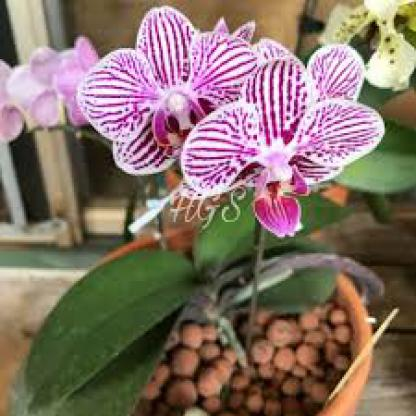ANGGREK: (95, 27, 380, 241)
